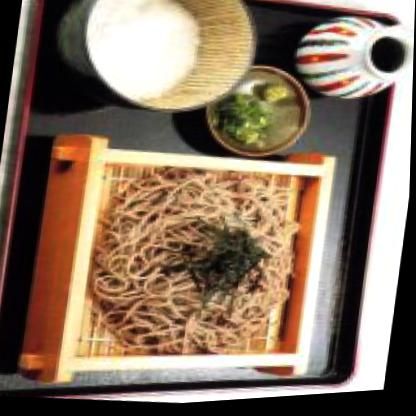memil soba: (62, 148, 332, 386)
